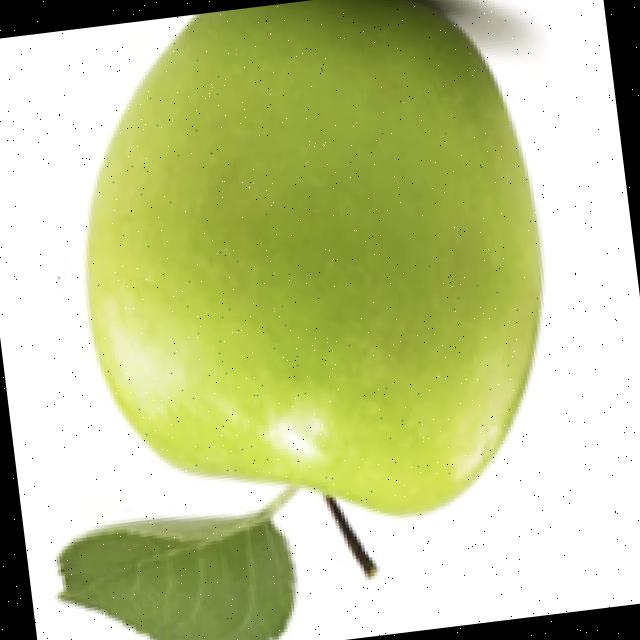apple: (50, 0, 548, 640)
